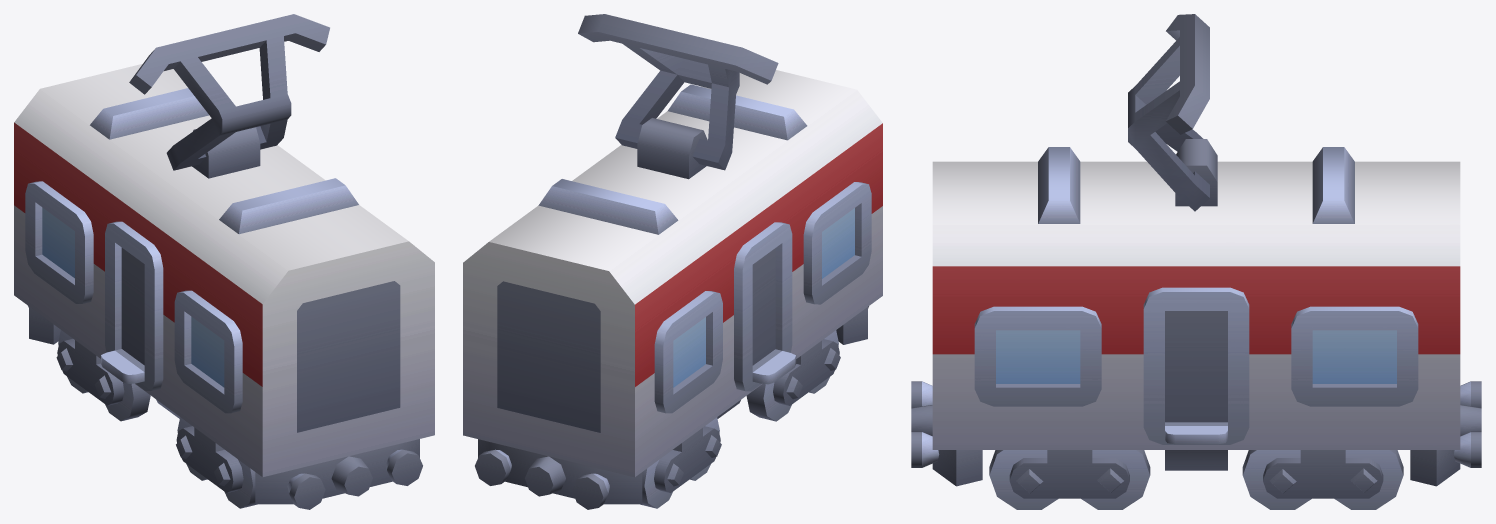
File: station.glb
The picture shows the model from 3 angles, left to right: view 1: azimuth 30°, elevation 25°; view 2: azimuth 150°, elevation 25°; view 3: azimuth 270°, elevation 25°; orthographic projection. The views are drawn at different scales.
Visible parts, largest first — view 1: train-electric-city-b; view 2: train-electric-city-b; view 3: train-electric-city-b.
Part boxes in pixels (x1,y1,x2,y2): train-electric-city-b: (14,14,434,509); train-electric-city-b: (463,14,882,509); train-electric-city-b: (911,14,1481,509).
Bounding box in the file's own units: 1.3 × 2.22 × 2.7.
1 material, 1 textured.
